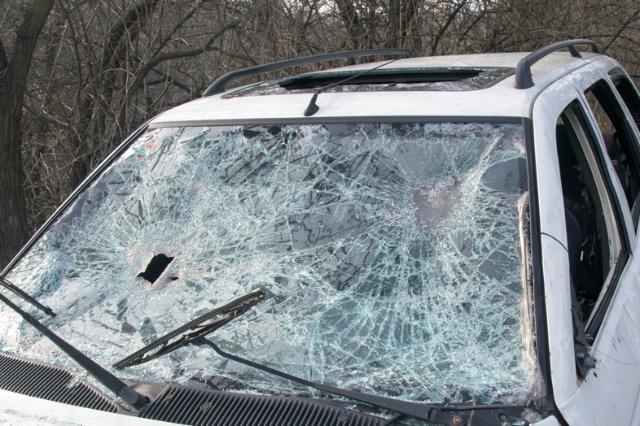Windshield: (0, 122, 537, 401)
